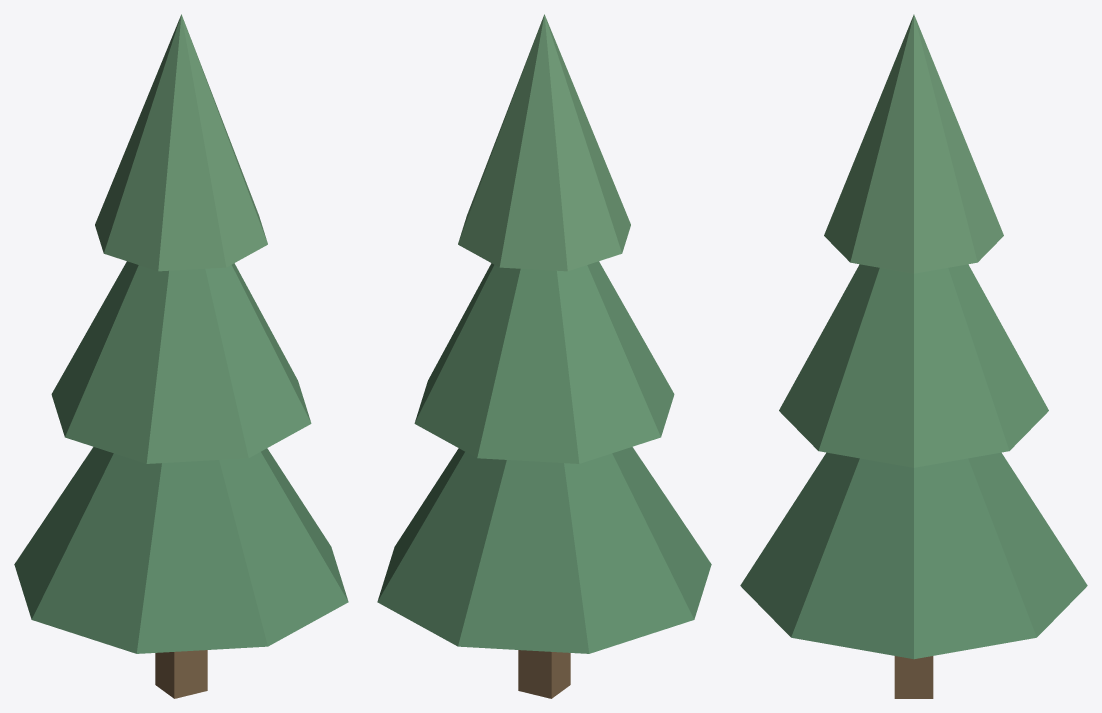
File: pine.glb
The picture shows the model from 3 angles, left to right: view 1: azimuth 30°, elevation 25°; view 2: azimuth 150°, elevation 25°; view 3: azimuth 270°, elevation 25°; orthographic projection.
Parts seen in each view (by area): view 1: tree; view 2: tree; view 3: tree.
Part boxes in pixels (left/top/right/bottom): tree: left=14, top=14, right=348, bottom=698; tree: left=377, top=14, right=711, bottom=698; tree: left=740, top=14, right=1087, bottom=698.
Bounding box in the file's own units: 3.38 × 7.25 × 3.38.
